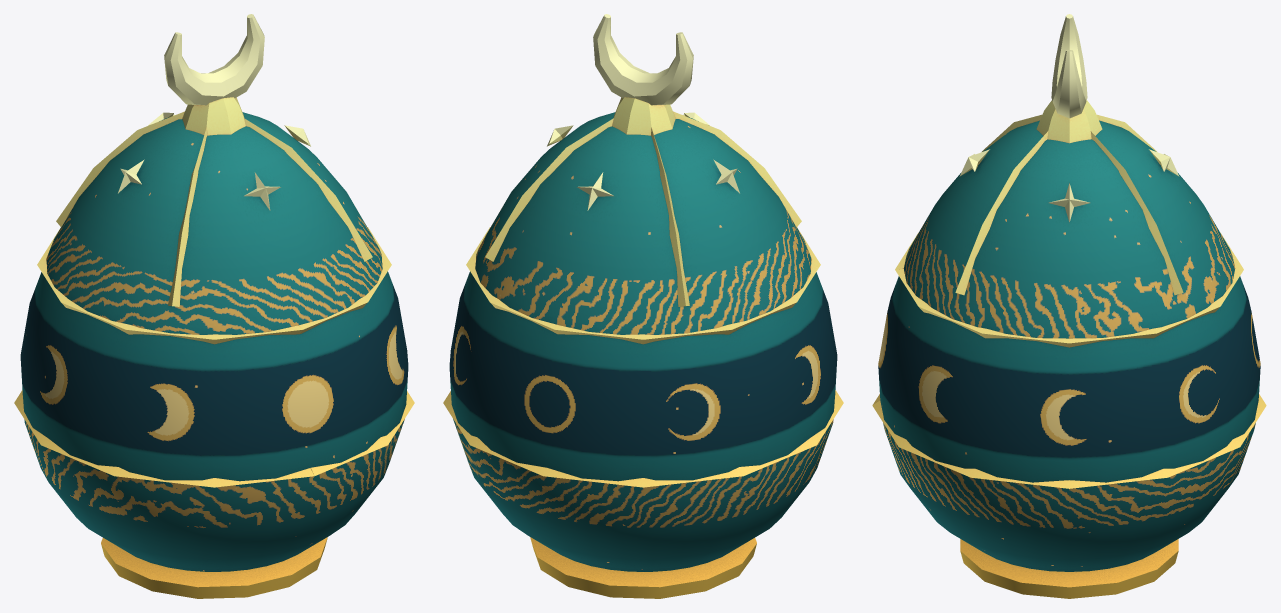
File: egg_monthly.fbx
3 renders of one model, left to right at view 1: azimuth 30°, elevation 25°; view 2: azimuth 150°, elevation 25°; view 3: azimuth 270°, elevation 25°, orthographic.
Parts seen in each view (by area): view 1: egg_monthly; view 2: egg_monthly; view 3: egg_monthly.
Boxes of the visible parts, box(x1,y1,x2,y2) form: egg_monthly: box(14, 14, 414, 598); egg_monthly: box(443, 14, 843, 598); egg_monthly: box(872, 14, 1266, 598).
Bounding box in the file's own units: 218 × 318 × 218.
Materials: 1 (1 with a texture image).
